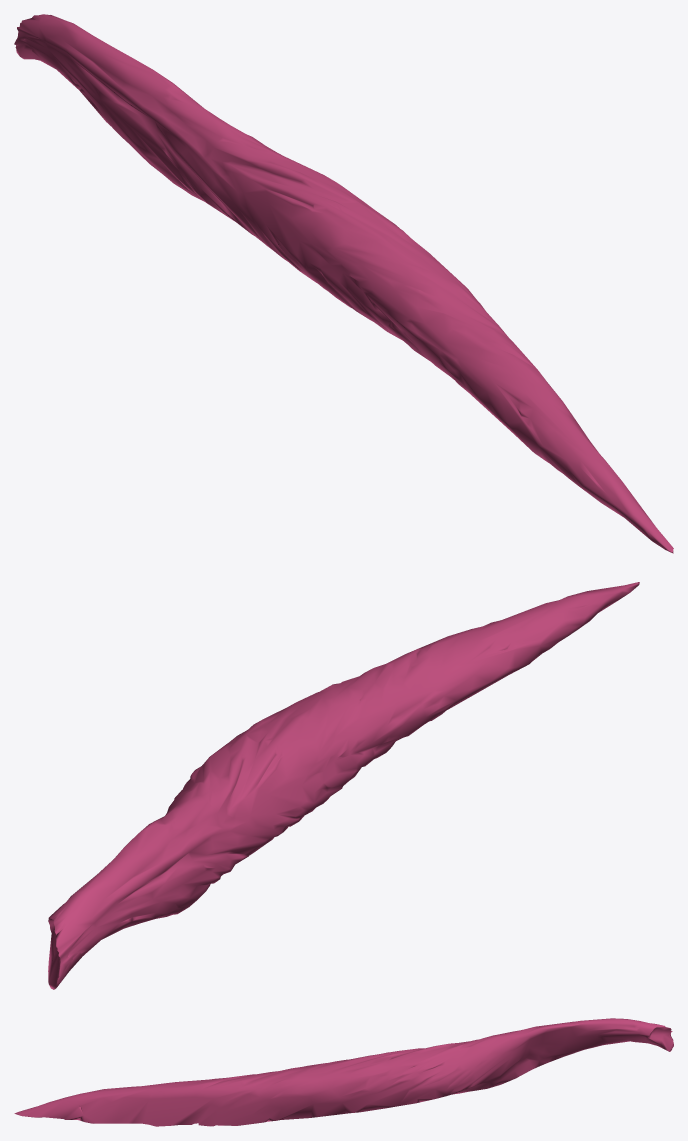
3 views of the same model, one above another, from view 1: azimuth 30°, elevation 25°; view 2: azimuth 150°, elevation 25°; view 3: azimuth 270°, elevation 25° (orthographic). The views are drawn at different scales.
Parts seen in each view (by area): view 1: 右侧股二头肌短头; view 2: 右侧股二头肌短头; view 3: 右侧股二头肌短头.
Part boxes in pixels (left/top/right/bottom): 右侧股二头肌短头: left=14, top=14, right=673, bottom=553; 右侧股二头肌短头: left=48, top=582, right=639, bottom=989; 右侧股二头肌短头: left=14, top=1018, right=673, bottom=1126.
Bounding box in the file's own units: 0.0543 × 0.0617 × 0.444.
